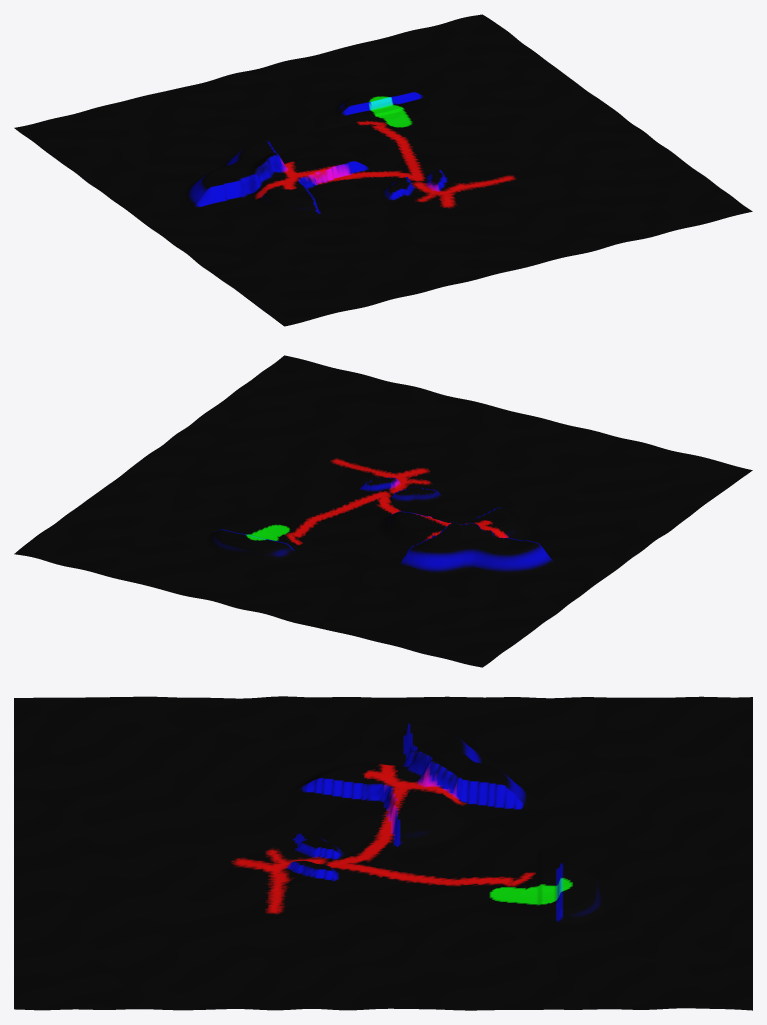
Rendered from terrain.glb.
The picture shows the model from 3 angles, top to bottom: view 1: azimuth 30°, elevation 25°; view 2: azimuth 150°, elevation 25°; view 3: azimuth 270°, elevation 25°; orthographic projection. The views are drawn at different scales.
Visible parts, largest first — view 1: terrain; view 2: terrain; view 3: terrain.
Boxes of the visible parts, x1,y1,x2,y2 form: terrain: (14,14,752,326); terrain: (14,355,752,667); terrain: (14,696,752,1010).
Bounding box in the file's own units: 150 × 7.82 × 150.
